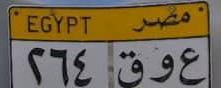2: (28, 46, 45, 84)
4: (74, 48, 92, 87)
6: (49, 47, 70, 86)
ain: (179, 47, 201, 87)
qaaf: (117, 49, 144, 88)
waw: (148, 51, 177, 85)
